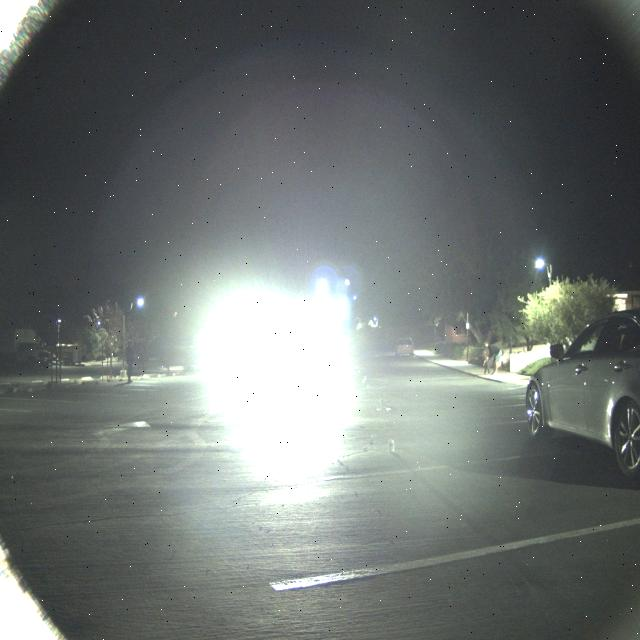humans: (482, 339, 503, 378), (125, 338, 136, 384)
